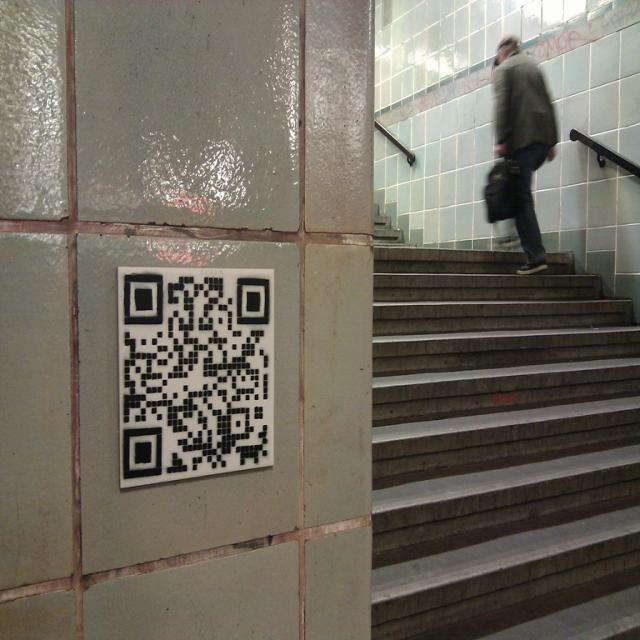qr-code: (123, 274, 269, 479)
